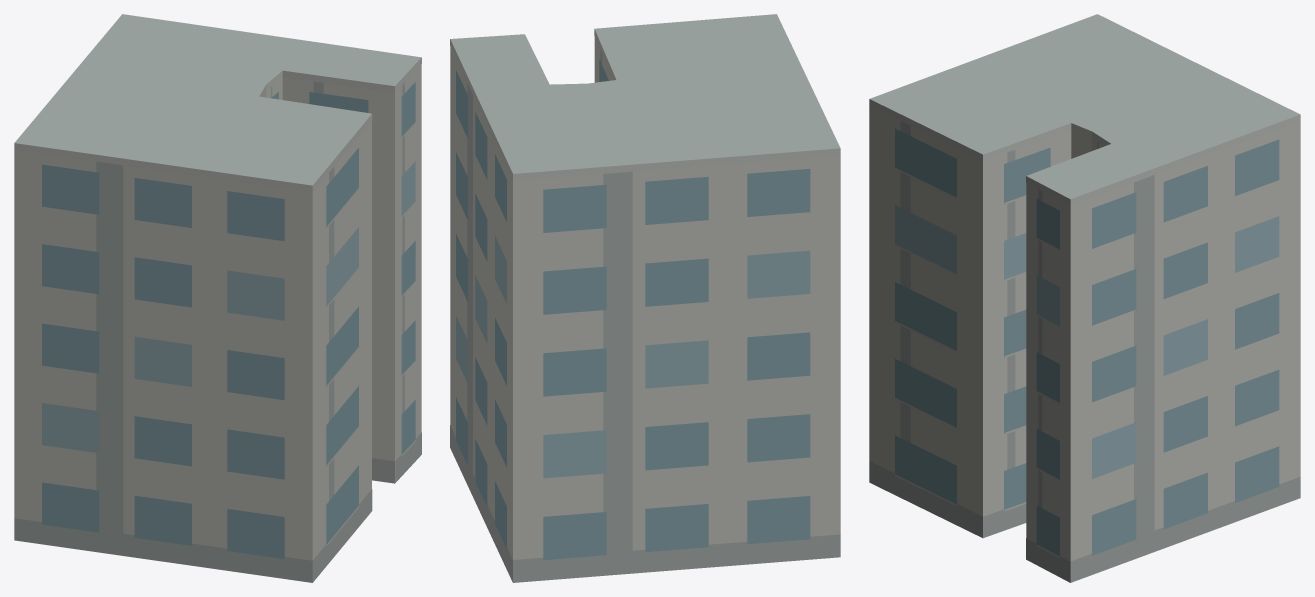
The model's file is survey-upis-32843746.glb.
The picture shows the model from 3 angles, left to right: view 1: azimuth 30°, elevation 25°; view 2: azimuth 150°, elevation 25°; view 3: azimuth 270°, elevation 25°; orthographic projection. The views are drawn at different scales.
Parts seen in each view (by area): view 1: survey-upis-32843746.tmp; view 2: survey-upis-32843746.tmp; view 3: survey-upis-32843746.tmp.
Part boxes in pixels (bbox=[...]): survey-upis-32843746.tmp: bbox=[14, 14, 421, 582]; survey-upis-32843746.tmp: bbox=[450, 14, 840, 582]; survey-upis-32843746.tmp: bbox=[869, 14, 1300, 582].
Size of the model in its own units: 14.77 by 14.25 by 14.53.
